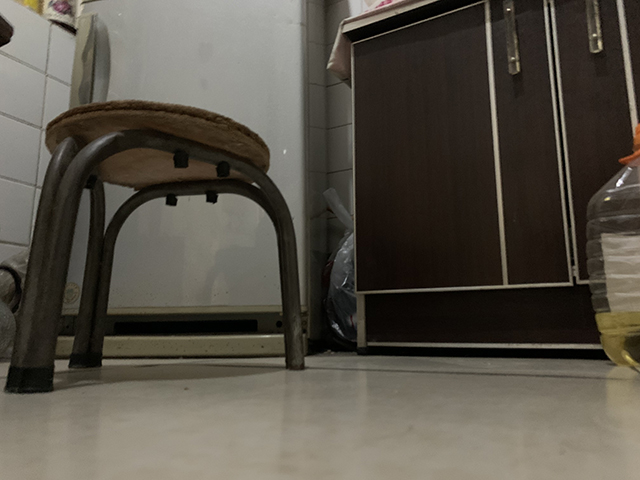cabinet: (339, 1, 640, 363)
stool: (1, 99, 309, 394)
